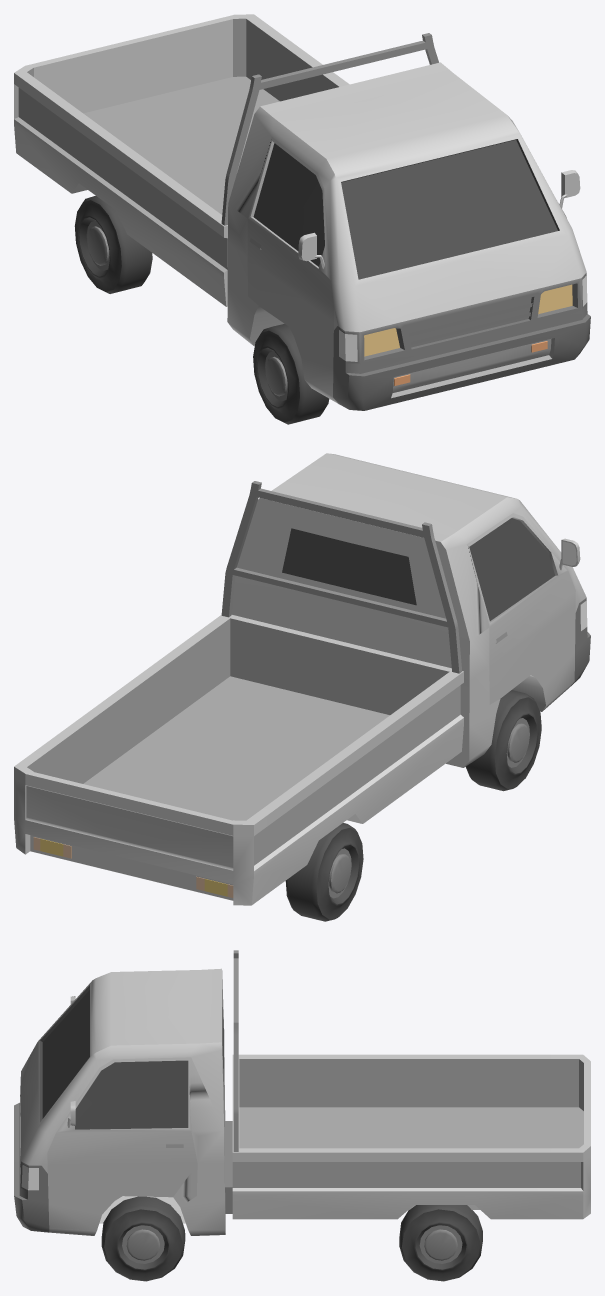
File: TruckS.gltf
3 renders of one model, top to bottom at view 1: azimuth 30°, elevation 25°; view 2: azimuth 150°, elevation 25°; view 3: azimuth 270°, elevation 25°, orthographic. The views are drawn at different scales.
Visible parts, largest first — view 1: body, wheel_5, wheel_18, wheel_0, wheel_23, wheel_22, wheel_4, wheel_19, wheel_1; view 2: body, wheel_5, wheel_18, wheel_0, wheel_23; view 3: body, wheel_12, wheel_6, wheel_17, wheel_11, wheel_10, wheel_16, wheel_7, wheel_13, wheel_15, wheel_9.
Boxes of the visible parts, bbox=[...] form: body: bbox=[14, 14, 590, 410]; wheel_5: bbox=[83, 196, 152, 293]; wheel_18: bbox=[253, 330, 299, 422]; wheel_0: bbox=[74, 200, 121, 291]; wheel_23: bbox=[261, 324, 329, 424]; wheel_22: bbox=[265, 357, 285, 396]; wheel_4: bbox=[87, 227, 107, 265]; wheel_19: bbox=[257, 347, 285, 407]; wheel_1: bbox=[79, 217, 107, 276]; body: bbox=[14, 453, 590, 905]; wheel_5: bbox=[285, 823, 356, 921]; wheel_18: bbox=[494, 697, 541, 788]; wheel_0: bbox=[316, 827, 363, 919]; wheel_23: bbox=[466, 690, 535, 791]; body: bbox=[14, 950, 590, 1235]; wheel_12: bbox=[104, 1209, 182, 1280]; wheel_6: bbox=[401, 1209, 480, 1280]; wheel_17: bbox=[101, 1196, 185, 1281]; wheel_11: bbox=[399, 1205, 482, 1281]; wheel_10: bbox=[424, 1230, 457, 1260]; wheel_16: bbox=[126, 1230, 159, 1260]; wheel_7: bbox=[415, 1223, 466, 1269]; wheel_13: bbox=[118, 1223, 168, 1269]; wheel_15: bbox=[122, 1225, 164, 1263]; wheel_9: bbox=[419, 1225, 462, 1263].
Bounding box in the file's own units: 2.46 × 2.49 × 5.26.
Materials: 1 (1 with a texture image).
